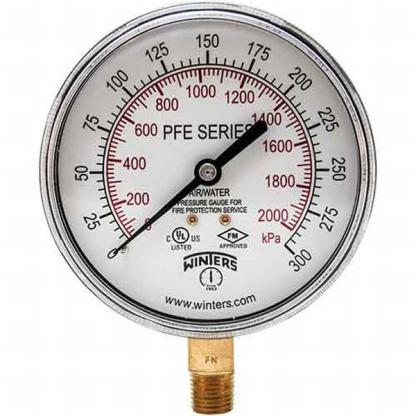needle: (112, 176, 202, 256)
